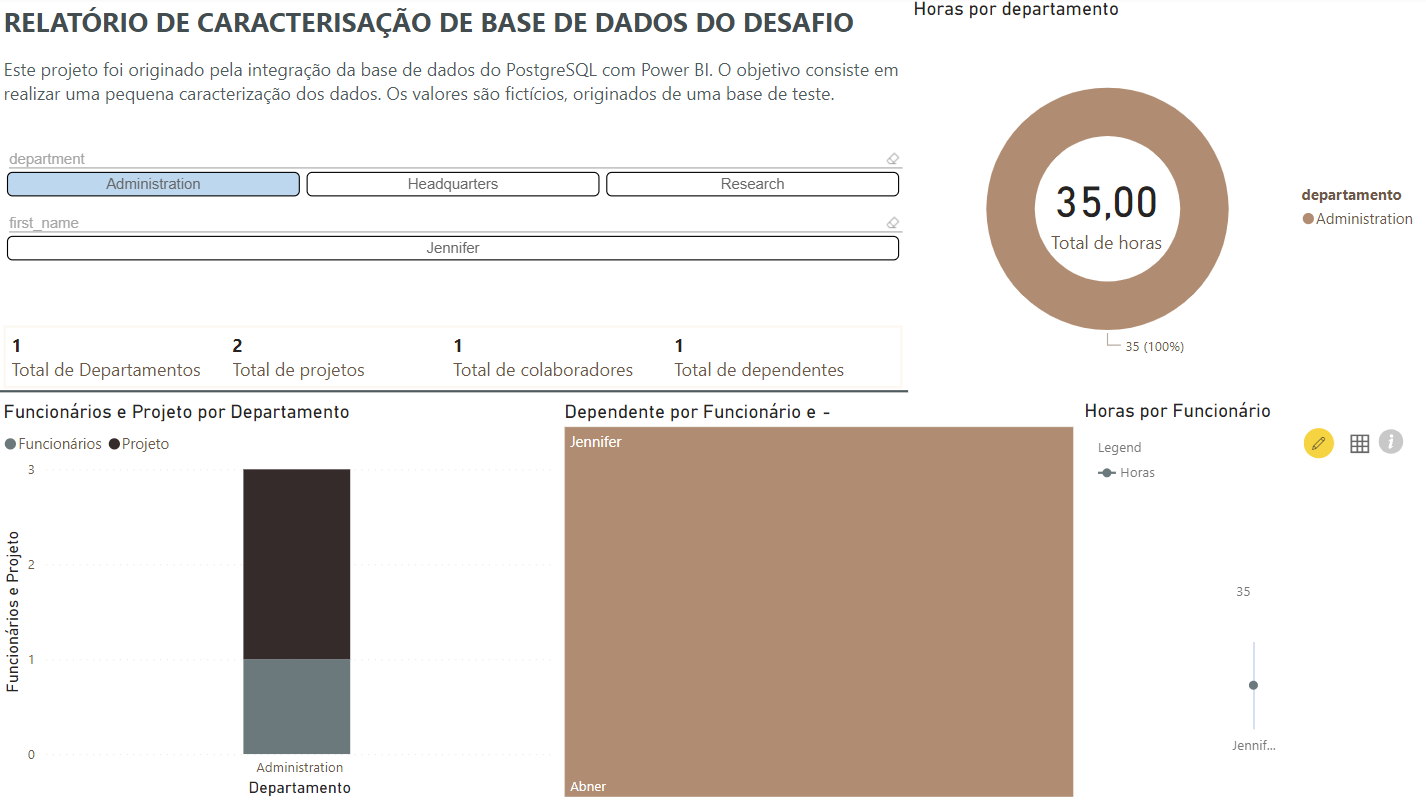

The dashboard page shown, as its layout file describes it:
{"tool":"powerbi","page":{"name":"Página 1","canvas":[1280,720],"ordinal":0},"visuals":[{"type":"donutChart","fields":{"Y":["public works_on.hours"],"Category":["public department.department"]},"box":[814.1,0,465.9,359.9],"z":0},{"type":"card","fields":{"Values":["public works_on.hours"]},"box":[899.3,132.6,183.3,114.3],"z":1},{"type":"treemap","fields":{"Group":["public employee.first_name"],"Values":["public dependent.dependent_name"],"Details":["public dependent.dependent_name"]},"box":[501.8,360,465.5,360],"z":2},{"type":"columnChart","fields":{"Y":["public employee.first_name","public project.project"],"Category":["public department.department"]},"box":[0,360,501.8,360],"z":3},{"type":"radarChartE89D21F3E4E64221B79113B5015EA81B","fields":{"category":["public employee.first_name"],"measure":["public works_on.hours"]},"box":[966.7,359.9,313.3,359.9],"z":4},{"type":"textbox","box":[0,0,814.2,132.6],"z":5},{"type":"ChicletSlicer1448559807354","fields":{"Category":["public department.department"]},"box":[0,132.8,814.1,57.1],"z":6},{"type":"ChicletSlicer1448559807354","fields":{"Category":["public employee.first_name"]},"box":[0,189.8,814.1,86.2],"z":7},{"type":"multiRowCard","fields":{"Values":["public department.department","public project.project","public employee.first_name","public dependent.dependent_name"]},"box":[0,288.8,814.1,71],"z":8},{"type":"shape","box":[0,324.9,814.1,55.9],"z":9}]}

Visuals, with their boxes in screenshot pixels (x1, y1, x2, y2), scaled from the page's 1280x720 canvas onto the 1426x802 screenshot:
donutChart - public works_on.hours x public department.department: {"left": 907, "top": 0, "right": 1425, "bottom": 401}
card - public works_on.hours: {"left": 1002, "top": 148, "right": 1206, "bottom": 275}
treemap - public employee.first_name x public dependent.dependent_name: {"left": 559, "top": 401, "right": 1078, "bottom": 801}
columnChart - public employee.first_name x public project.project: {"left": 0, "top": 401, "right": 559, "bottom": 801}
radarChartE89D21F3E4E64221B79113B5015EA81B - public employee.first_name x public works_on.hours: {"left": 1077, "top": 401, "right": 1425, "bottom": 801}
textbox: {"left": 0, "top": 0, "right": 907, "bottom": 148}
ChicletSlicer1448559807354 - public department.department: {"left": 0, "top": 148, "right": 907, "bottom": 212}
ChicletSlicer1448559807354 - public employee.first_name: {"left": 0, "top": 211, "right": 907, "bottom": 307}
multiRowCard - public department.department x public project.project: {"left": 0, "top": 322, "right": 907, "bottom": 401}
shape: {"left": 0, "top": 362, "right": 907, "bottom": 424}
